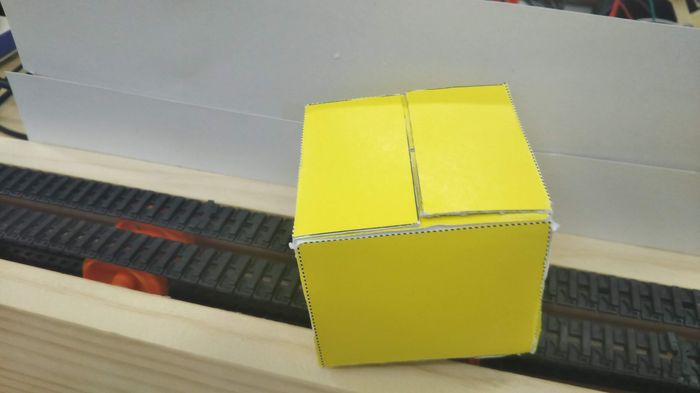box4: (289, 83, 569, 371)
